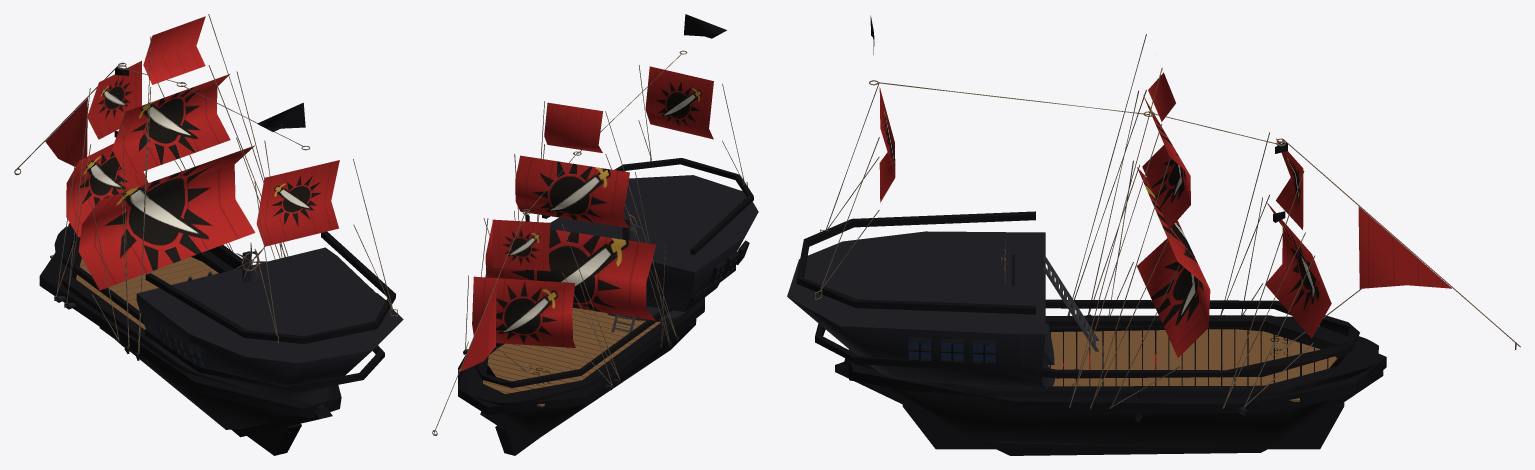
The model's file is corsair-galleon.glb.
The picture shows the model from 3 angles, left to right: view 1: azimuth 30°, elevation 25°; view 2: azimuth 150°, elevation 25°; view 3: azimuth 270°, elevation 25°; orthographic projection. The views are drawn at different scales.
Visible parts, largest first — view 1: Polygon_Reduction_1_Mat.2_0, Polygon_Reduction_1_Sail_0; view 2: Polygon_Reduction_1_Mat.2_0, Polygon_Reduction_1_Sail_0; view 3: Polygon_Reduction_1_Mat.2_0, Polygon_Reduction_1_Sail_0.
Part boxes in pixels (bbox=[...]): Polygon_Reduction_1_Mat.2_0: bbox=[14, 14, 403, 455]; Polygon_Reduction_1_Sail_0: bbox=[45, 16, 339, 290]; Polygon_Reduction_1_Mat.2_0: bbox=[432, 14, 758, 455]; Polygon_Reduction_1_Sail_0: bbox=[460, 66, 713, 371]; Polygon_Reduction_1_Mat.2_0: bbox=[787, 15, 1520, 455]; Polygon_Reduction_1_Sail_0: bbox=[879, 72, 1451, 357].
Bounding box in the file's own units: 14.08 × 25.9 × 41.12.
2 materials, 2 textured.
